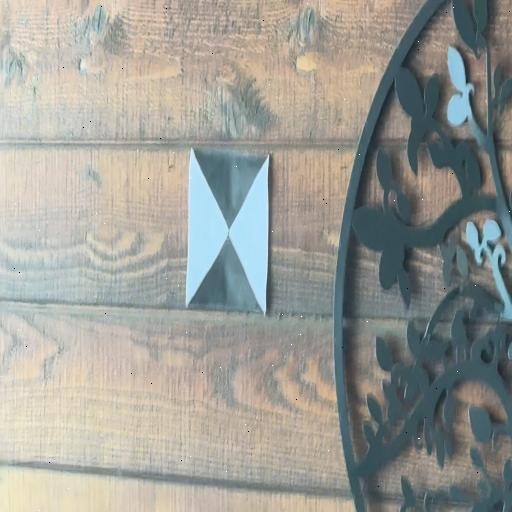target: (191, 148, 267, 315)
